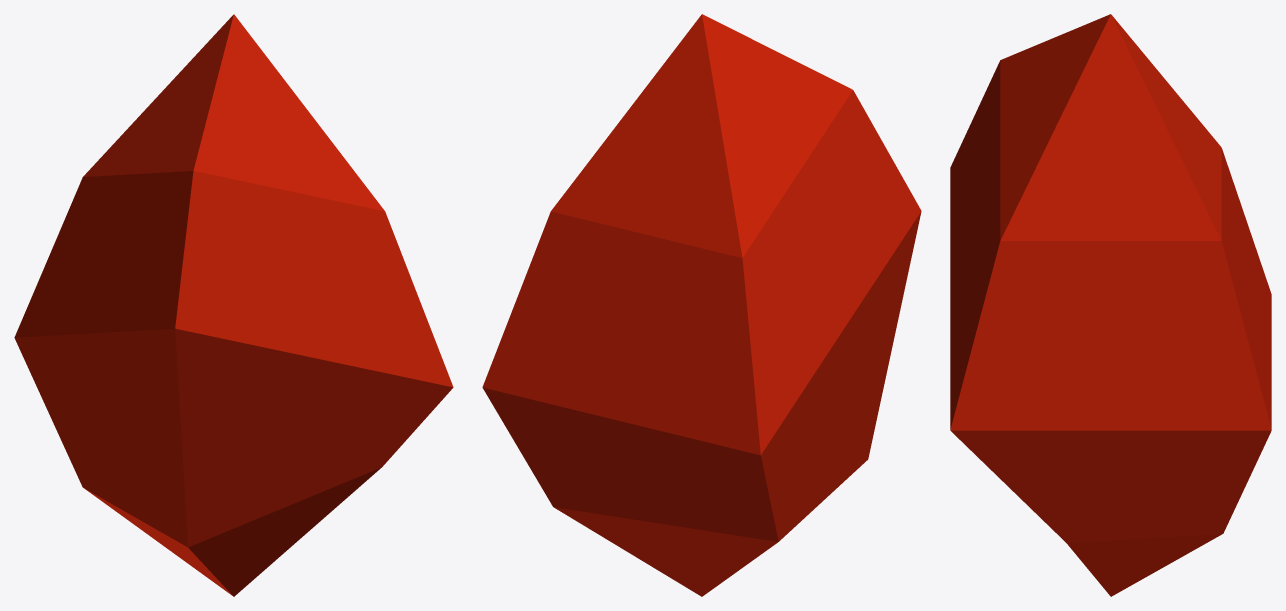
The model's file is jem.fbx.
3 renders of one model, left to right at view 1: azimuth 30°, elevation 25°; view 2: azimuth 150°, elevation 25°; view 3: azimuth 270°, elevation 25°, orthographic.
Visible parts, largest first — view 1: Object026; view 2: Object026; view 3: Object026.
Boxes of the visible parts, box(x1,y1,x2,y2) form: Object026: box(14, 14, 453, 596); Object026: box(482, 14, 921, 596); Object026: box(950, 14, 1271, 596).
Bounding box in the file's own units: 136 × 272 × 136.
